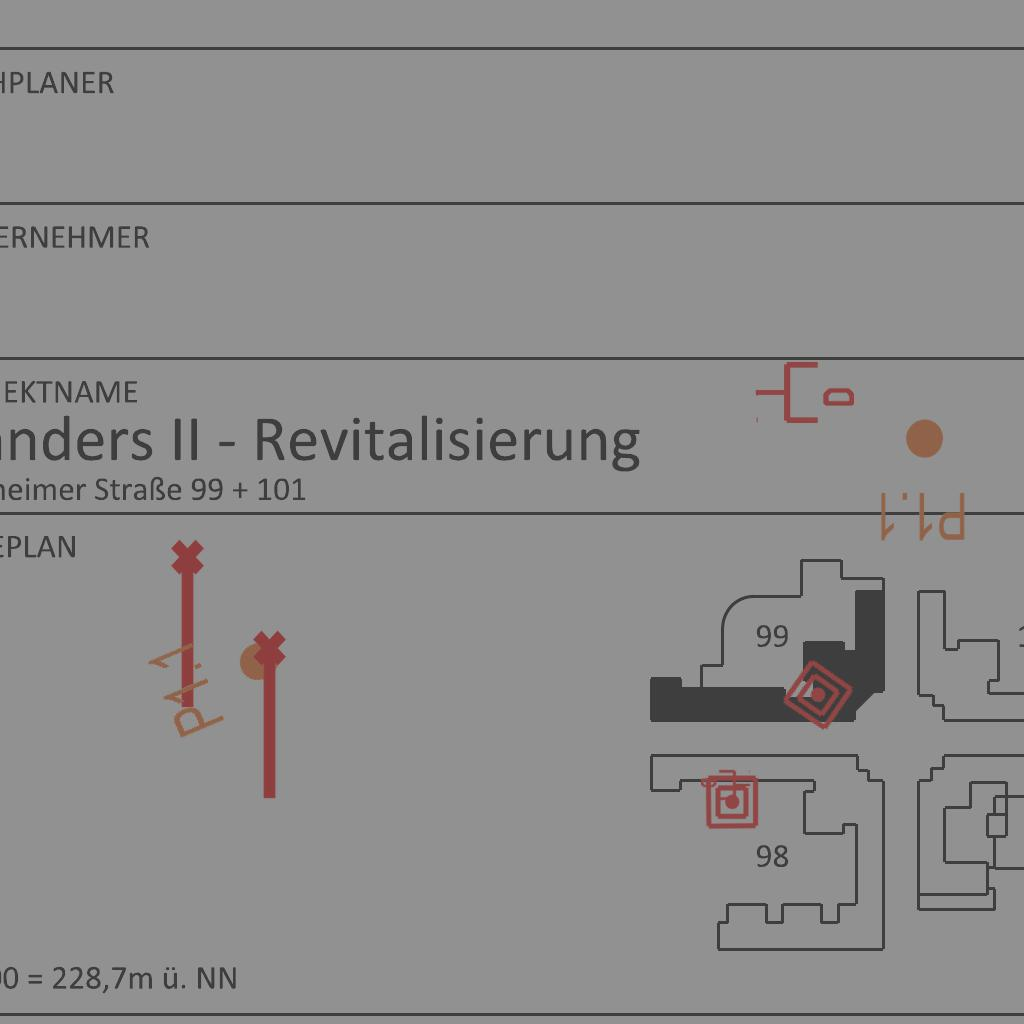ASR_Ansaugoeffnung: (167, 537, 213, 713), (249, 628, 295, 804)
Datenanschluss_einfach: (754, 358, 854, 427), (701, 768, 751, 802)
Downlight_LED_Einbauleuchten_Flur: (142, 607, 297, 743), (875, 416, 968, 544)
NAM-Nichtautomatischer_Melder: (779, 656, 857, 734), (704, 774, 760, 830)
